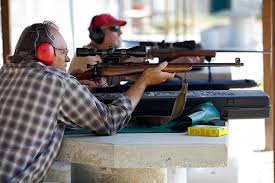gun: (146, 60, 249, 80)
